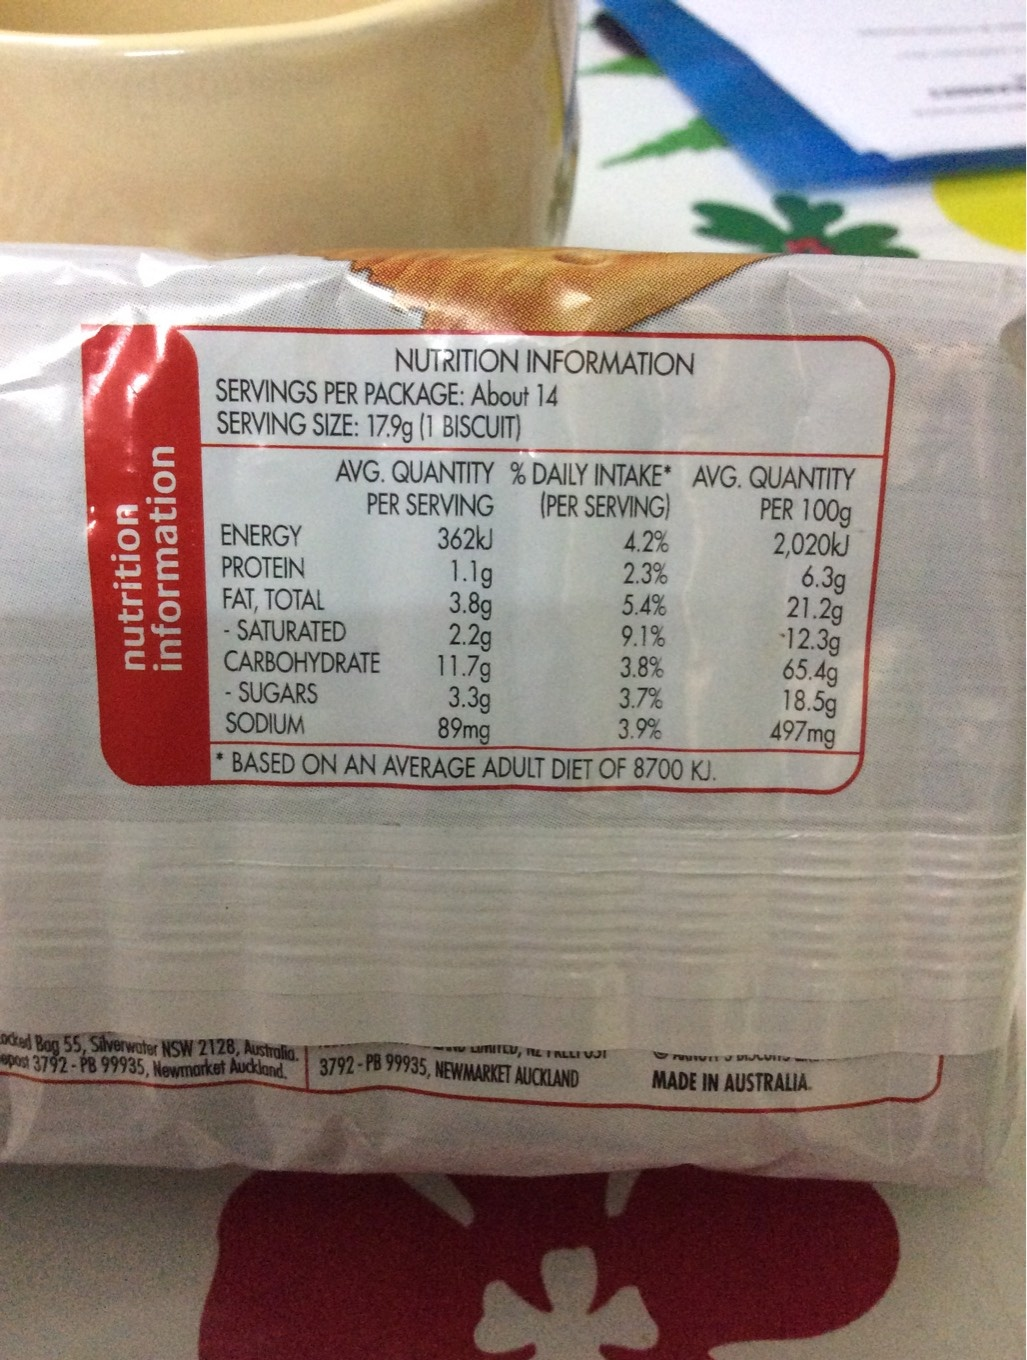column: (218, 522, 381, 737), (766, 528, 850, 748), (432, 521, 495, 744), (615, 521, 670, 748)
table: (208, 341, 858, 747)
